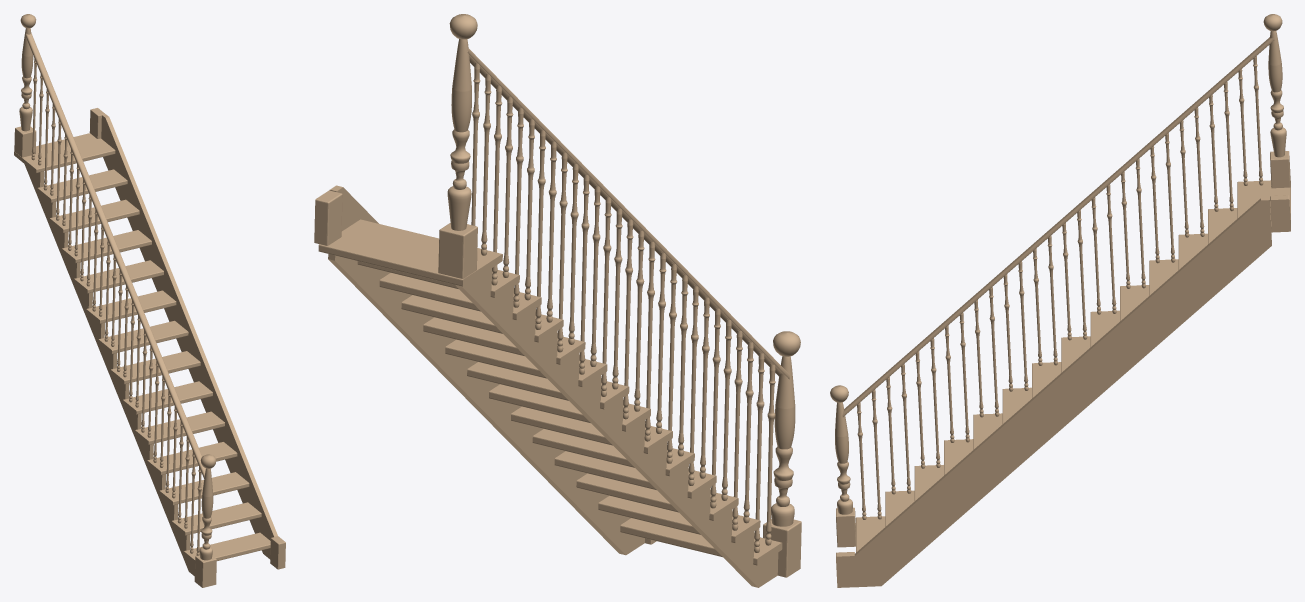
File: madera.gltf
The picture shows the model from 3 angles, left to right: view 1: azimuth 30°, elevation 25°; view 2: azimuth 150°, elevation 25°; view 3: azimuth 270°, elevation 25°; orthographic projection. The views are drawn at different scales.
Parts seen in each view (by area): view 1: 16669_Straight_Stairs_with_Right-side_Banister-Honey_V1; view 2: 16669_Straight_Stairs_with_Right-side_Banister-Honey_V1; view 3: 16669_Straight_Stairs_with_Right-side_Banister-Honey_V1.
Part boxes in pixels (x1,y1,x2,y2): 16669_Straight_Stairs_with_Right-side_Banister-Honey_V1: (14,14,285,587); 16669_Straight_Stairs_with_Right-side_Banister-Honey_V1: (314,14,801,587); 16669_Straight_Stairs_with_Right-side_Banister-Honey_V1: (830,14,1290,587).
Bounding box in the file's own units: 0.8205 × 4.14 × 3.28.
